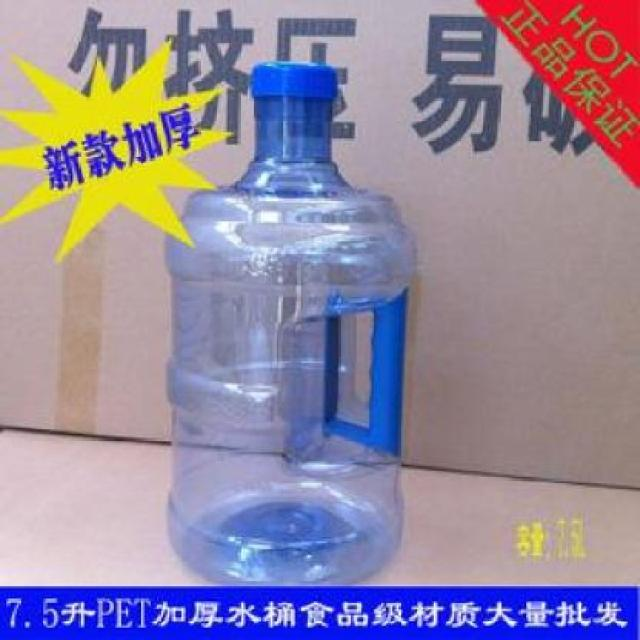coolerbottle: (162, 57, 418, 584)
